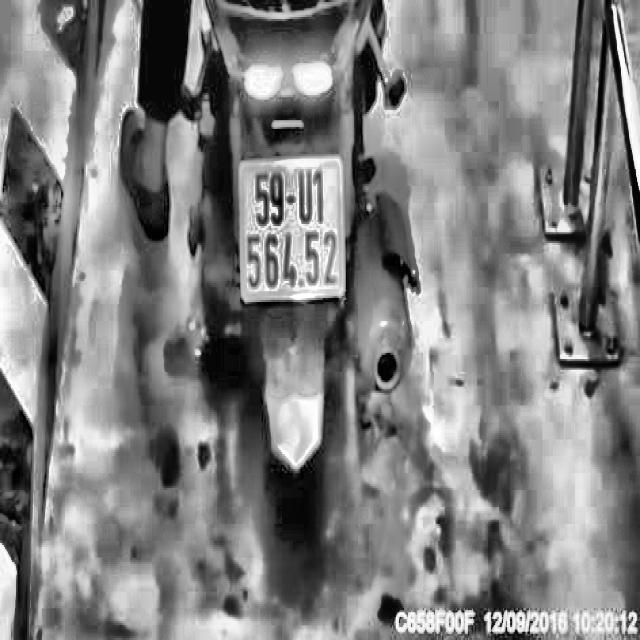plate: (234, 152, 350, 310)
